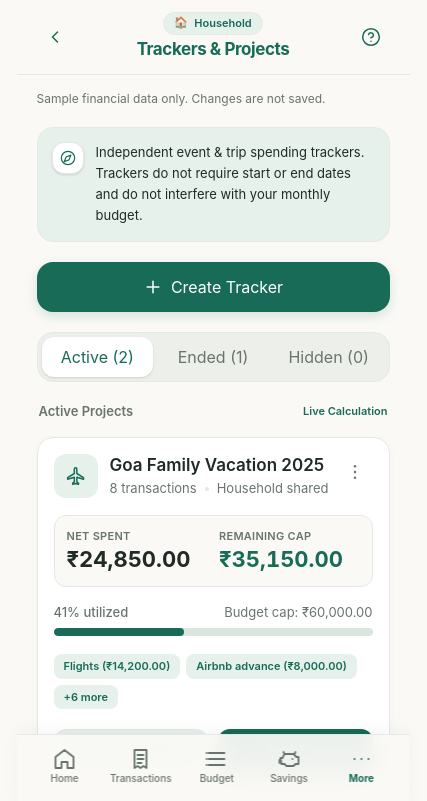
Test: TrackersScreen rendering › shows the help drawer when help button is clicked
Click the button named "help and documentation" at (372, 37), box [350,15,394,59]
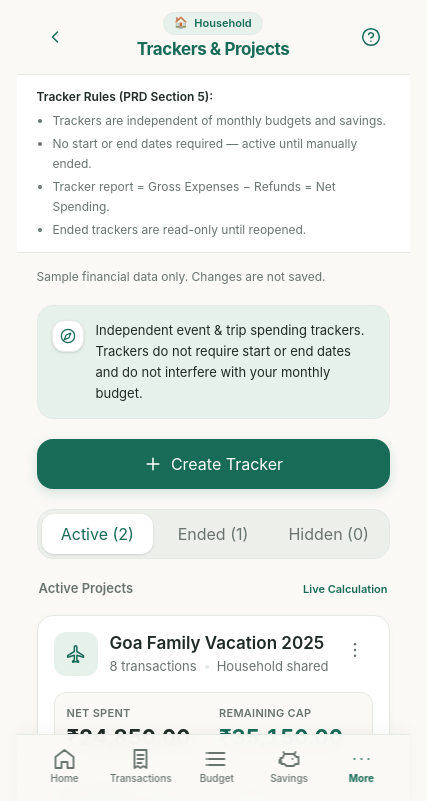
Result: the element named "trackers policy guide" is shown at [16,74,410,252]
